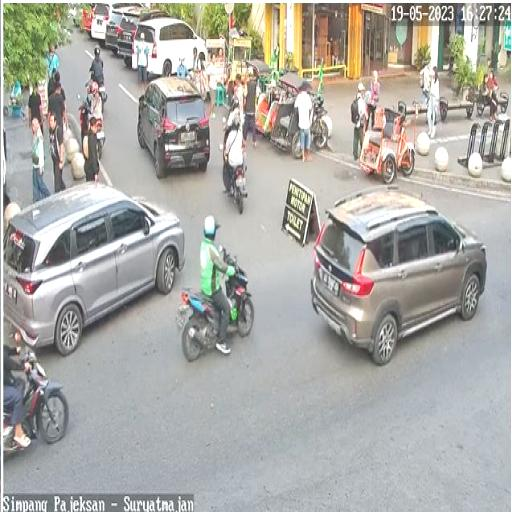mobil: (309, 196, 488, 358), (4, 180, 184, 340), (135, 82, 215, 178), (132, 18, 206, 76), (118, 9, 166, 64)
motor: (177, 240, 262, 363), (4, 326, 70, 464), (221, 128, 251, 220)
